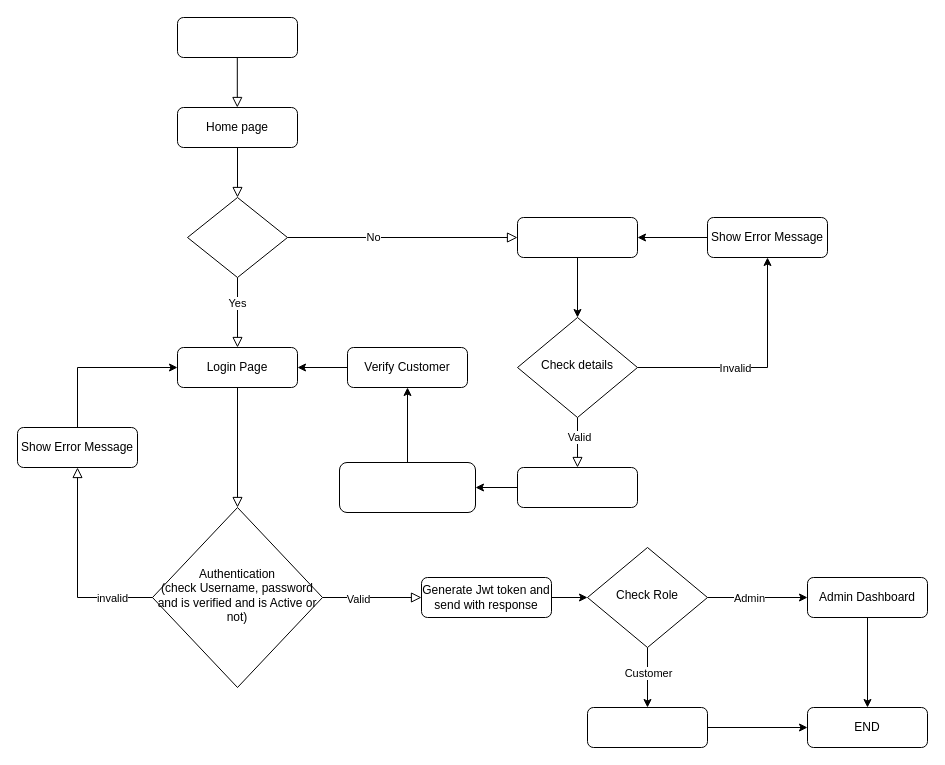
The diagram is 945 pixels wide and 765 high, and some of its shapes have lost their labels. The centre of each missing label's shape, as x and y in pixels:
Customer Dashboard: the point at 647,727
Generate verification token: the point at 577,487
have an account: the point at 237,237
Send Success Mail with verification url and verification token: the point at 407,487
Signup page: the point at 577,237
START: the point at 237,37
